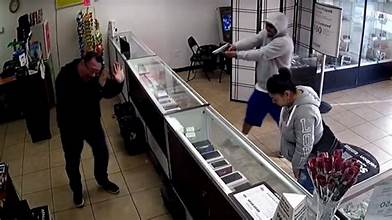Pistol: (205, 39, 239, 59)
